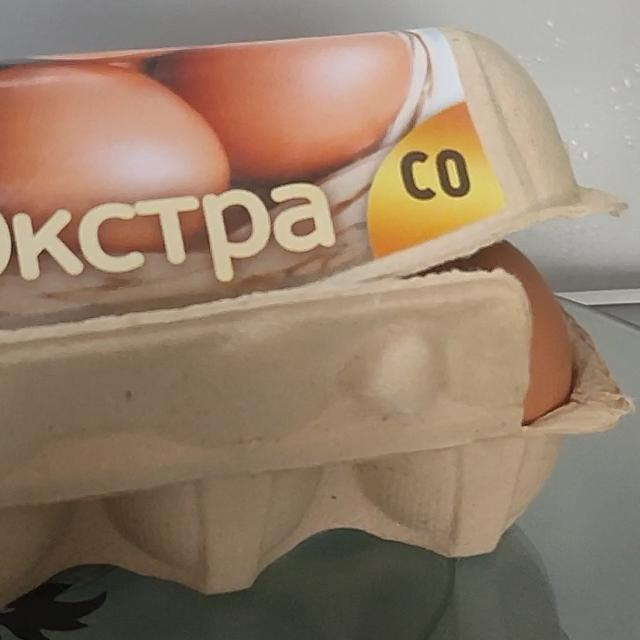egg: (0, 13, 576, 620)
